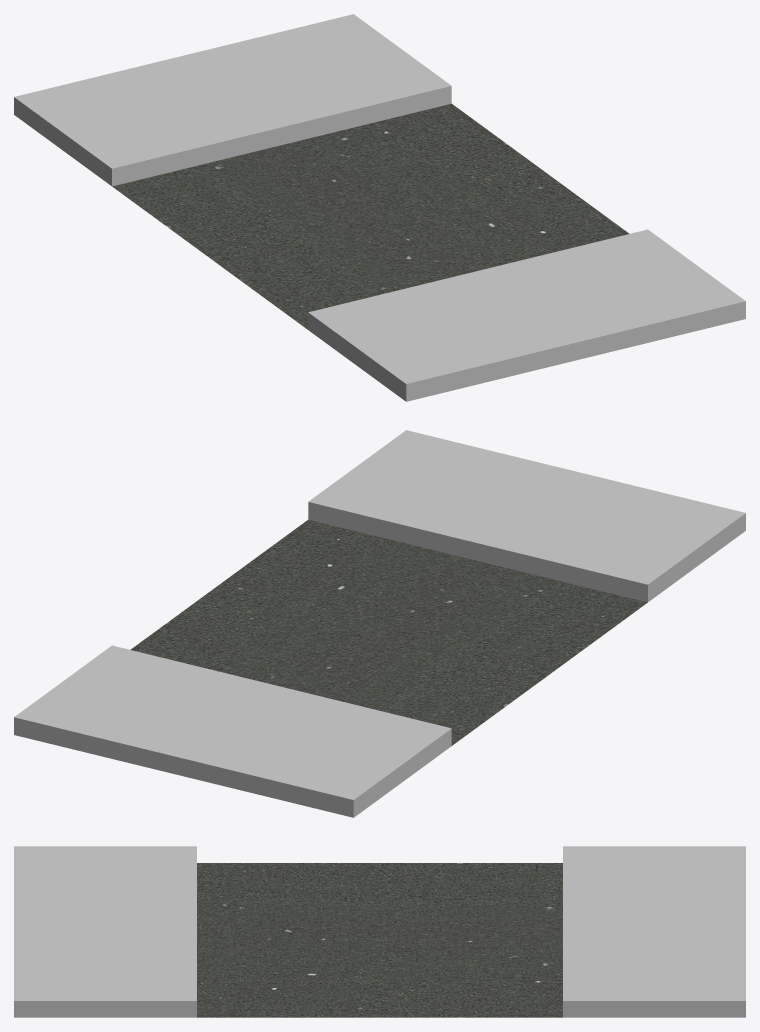
Rendered from roadAsphalt_straight.dae.
The picture shows the model from 3 angles, top to bottom: view 1: azimuth 30°, elevation 25°; view 2: azimuth 150°, elevation 25°; view 3: azimuth 270°, elevation 25°; orthographic projection. The views are drawn at different scales.
Parts seen in each view (by area): view 1: roadAsphalt_straight; view 2: roadAsphalt_straight; view 3: roadAsphalt_straight.
Part boxes in pixels (bbox=[...]): roadAsphalt_straight: bbox=[14, 14, 745, 401]; roadAsphalt_straight: bbox=[14, 430, 745, 817]; roadAsphalt_straight: bbox=[14, 846, 745, 1017].
Bounding box in the file's own units: 1 × 0.05 × 2.
